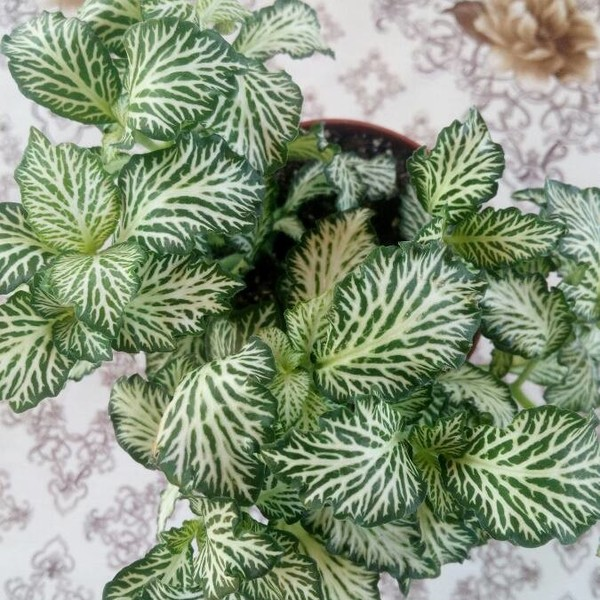obstacle: (11, 5, 583, 551)
